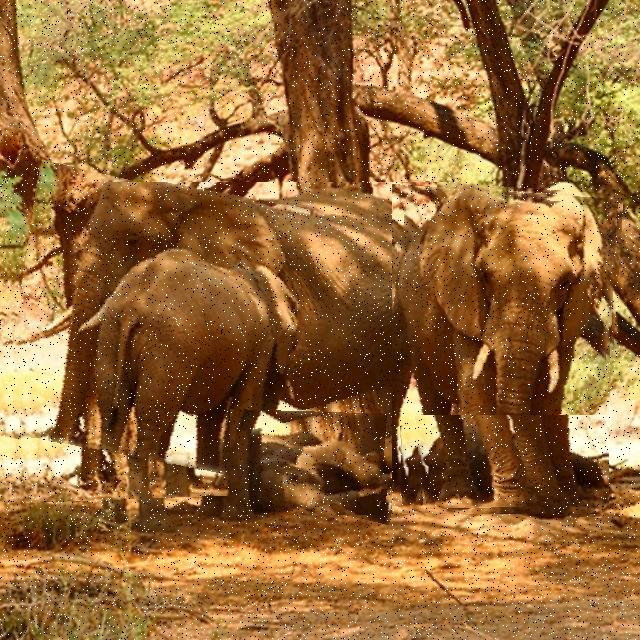elephant: (0, 182, 437, 503), (392, 184, 618, 514), (415, 415, 609, 509), (230, 409, 387, 515)
